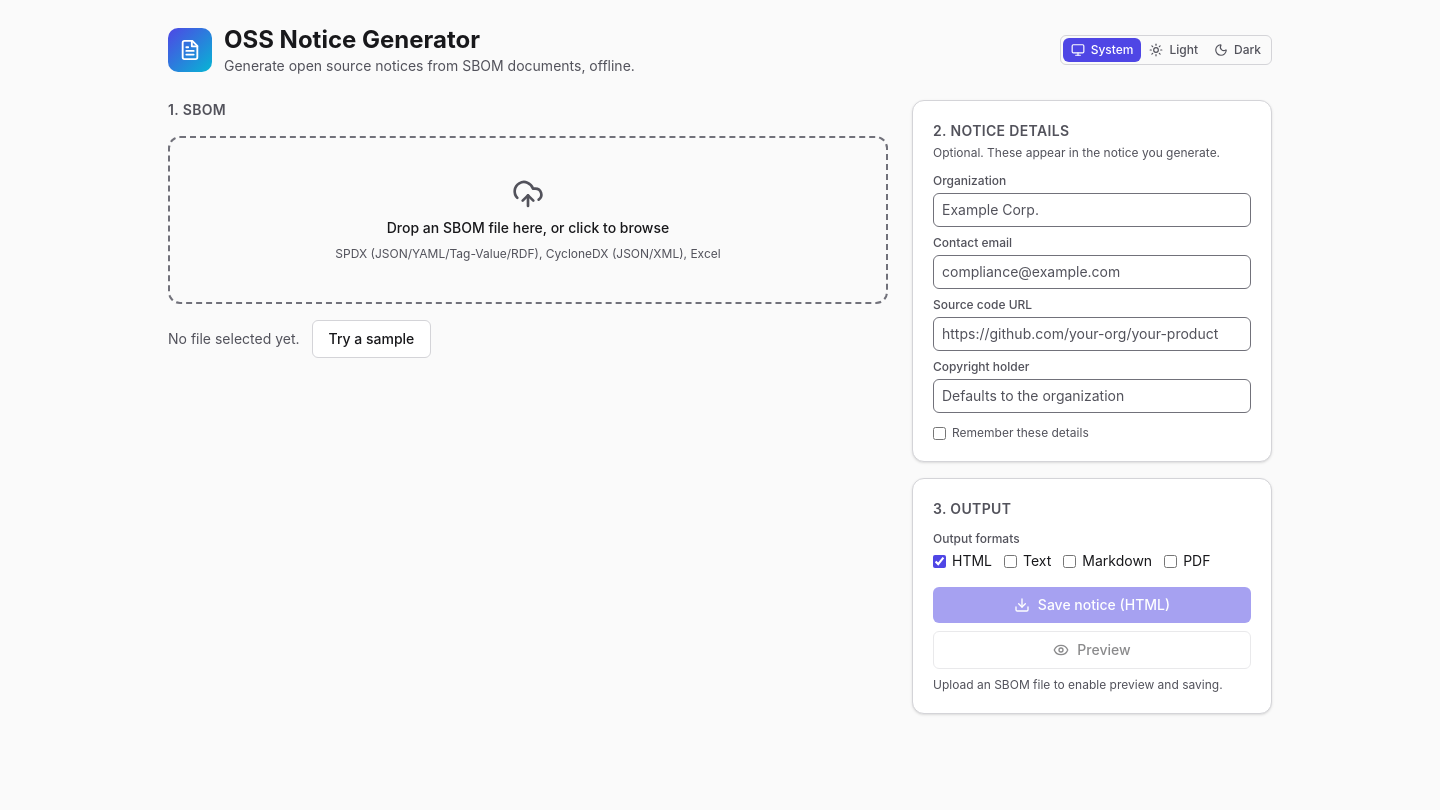
Test: App › loads a bundled sample when 'Try a sample' is clicked (U1)
The image size is (1440, 810).
Click the button with test id "try-sample": (371, 339) [312,320,431,358]
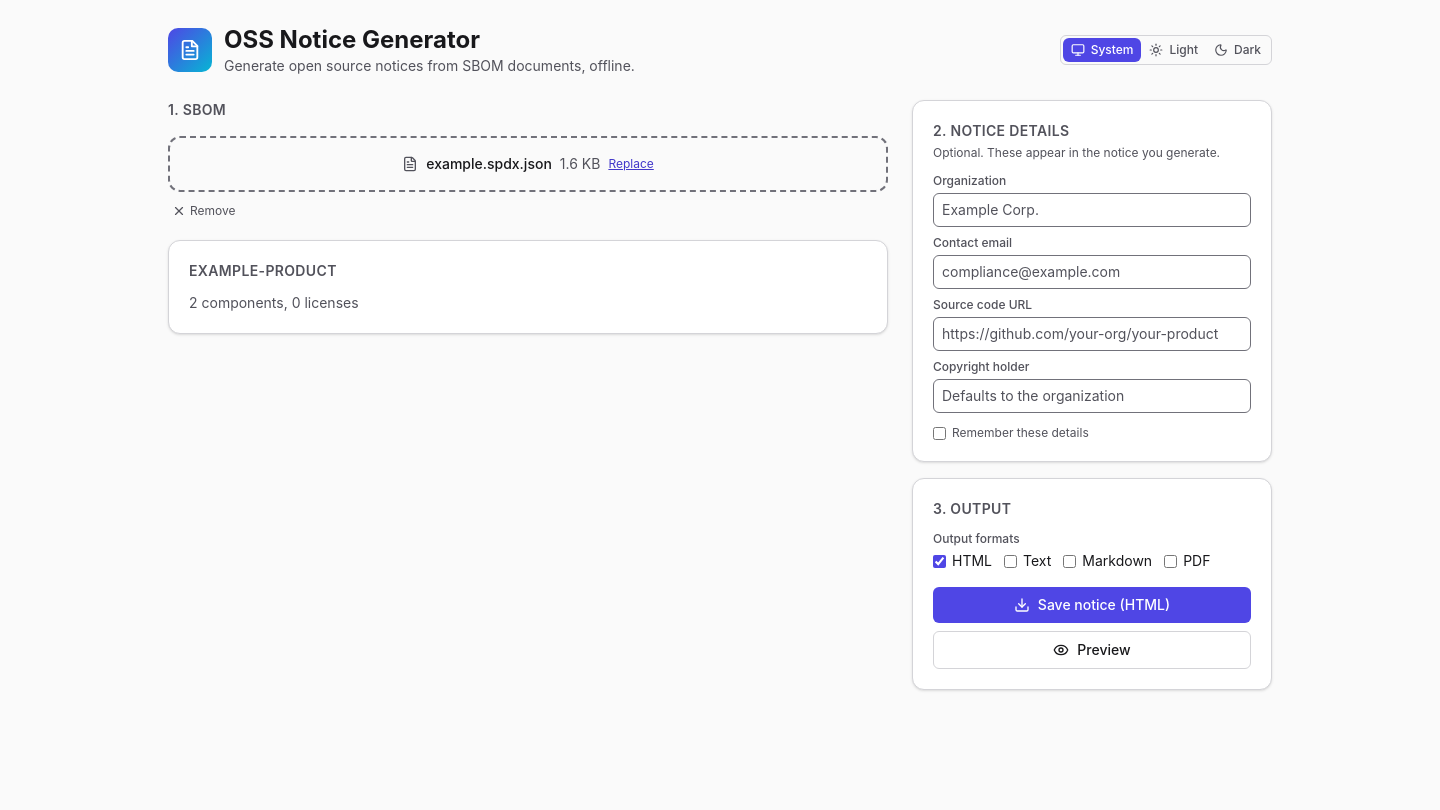
Now the heading "example-product" is shown, box [189,262,337,279]
Now the text "example.spdx.json" is shown, box [426,154,552,174]
